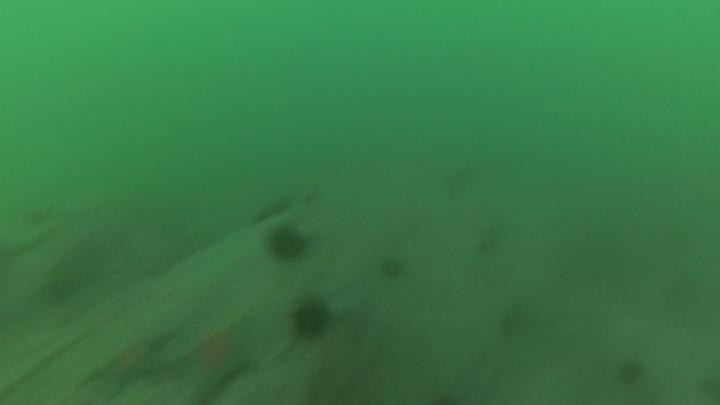echinus: (290, 297, 331, 342), (268, 222, 310, 263), (253, 193, 296, 225), (497, 305, 532, 344), (23, 204, 59, 229), (375, 255, 406, 284), (618, 361, 646, 390)
starfish: (153, 298, 268, 405), (88, 328, 181, 404)
